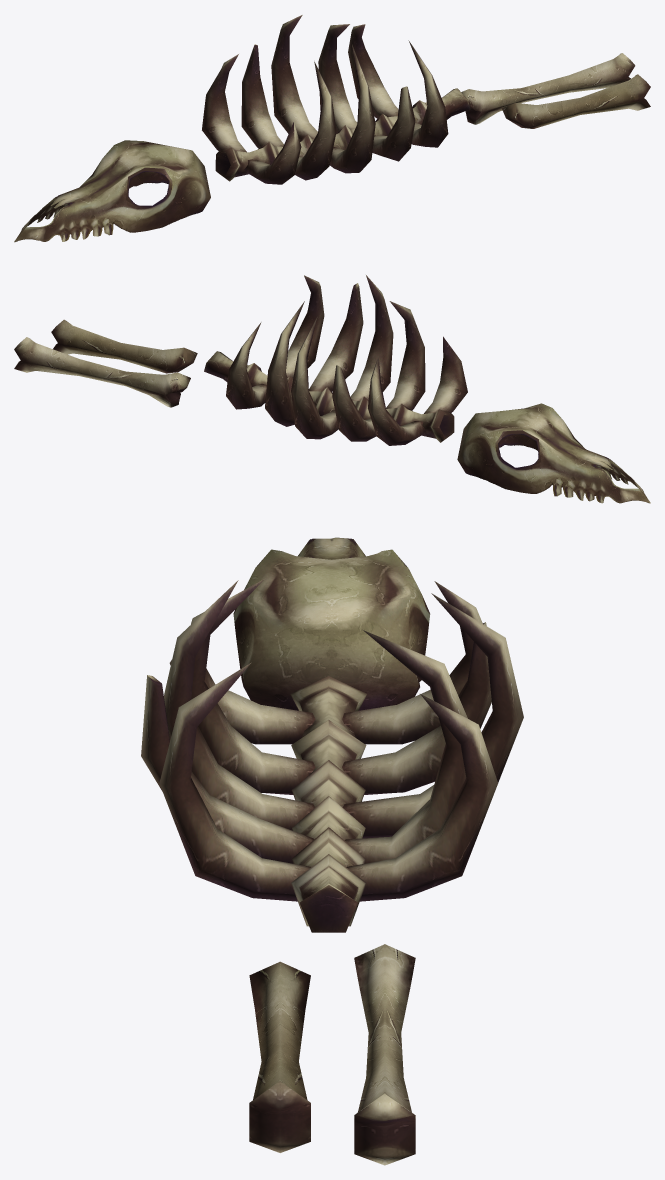
Rendered from Bones.FBX.
3 renders of one model, top to bottom at view 1: azimuth 30°, elevation 25°; view 2: azimuth 150°, elevation 25°; view 3: azimuth 270°, elevation 25°, orthographic. The views are drawn at different scales.
Parts seen in each view (by area): view 1: bone_jizhui, bone_tougu, bone_gutou01, bone_gutou02; view 2: bone_jizhui, bone_tougu, bone_gutou01, bone_gutou02; view 3: bone_jizhui, bone_tougu, bone_gutou01, bone_gutou02.
Boxes of the visible parts, box(x1,y1,x2,y2) form: bone_jizhui: box(202, 15, 470, 184); bone_tougu: box(14, 140, 210, 242); bone_gutou01: box(461, 53, 635, 124); bone_gutou02: box(502, 74, 650, 128); bone_jizhui: box(204, 275, 467, 445); bone_tougu: box(457, 403, 650, 503); bone_gutou01: box(14, 337, 190, 407); bone_gutou02: box(51, 319, 197, 373); bone_jizhui: box(141, 578, 523, 932); bone_tougu: box(233, 537, 430, 710); bone_gutou01: box(354, 944, 415, 1165); bone_gutou02: box(249, 961, 310, 1152).
Bounding box in the file's own units: 406 × 91.33 × 109.
